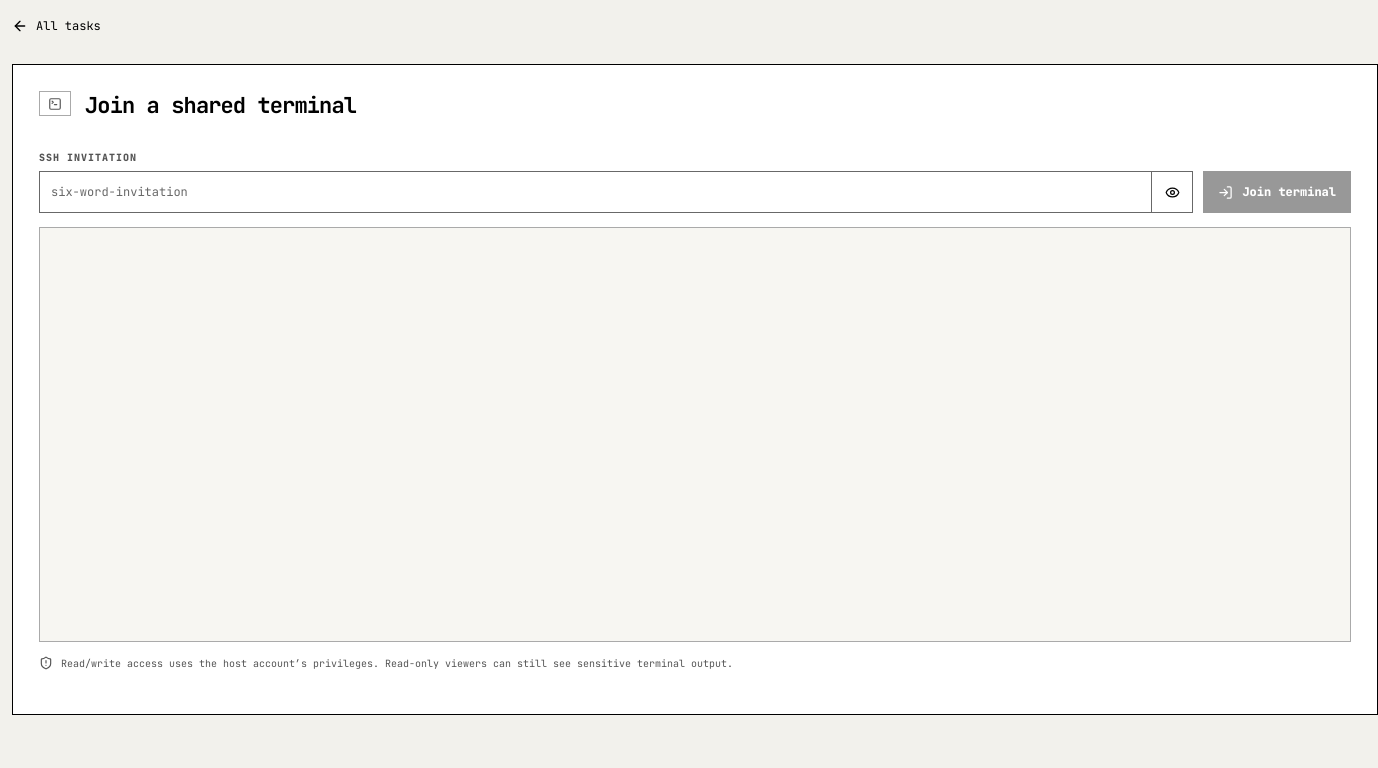
SSH homepage mode › opens shared SSH URLs directly and clears its hash when returning to files
expect the heading "Join a shared terminal" is shown: met, box [85,91,356,120]
Step 1. Click the button "All tasks" → {"x": 56, "y": 26}, box [12,4,101,48]
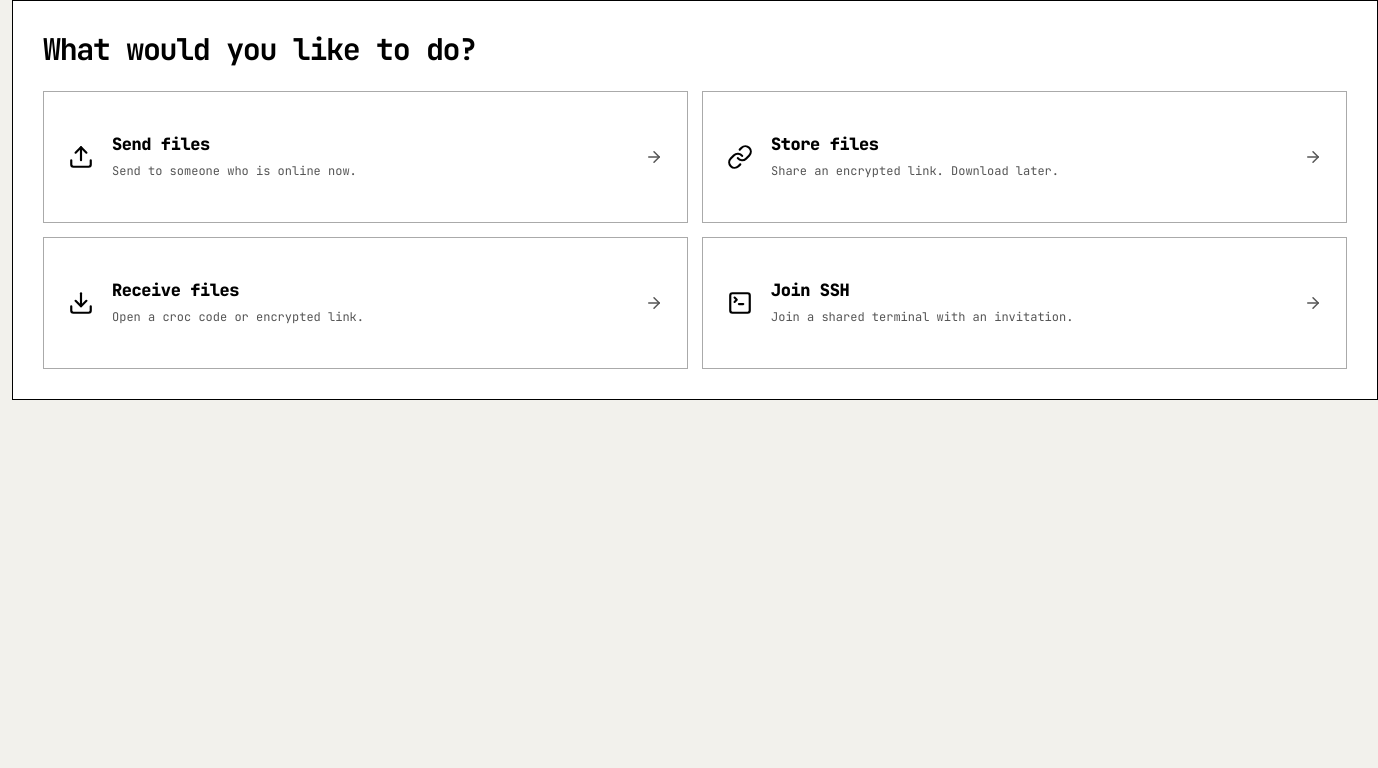
expect the heading "What would you like to do?" is shown: met, box [43,29,476,69]
